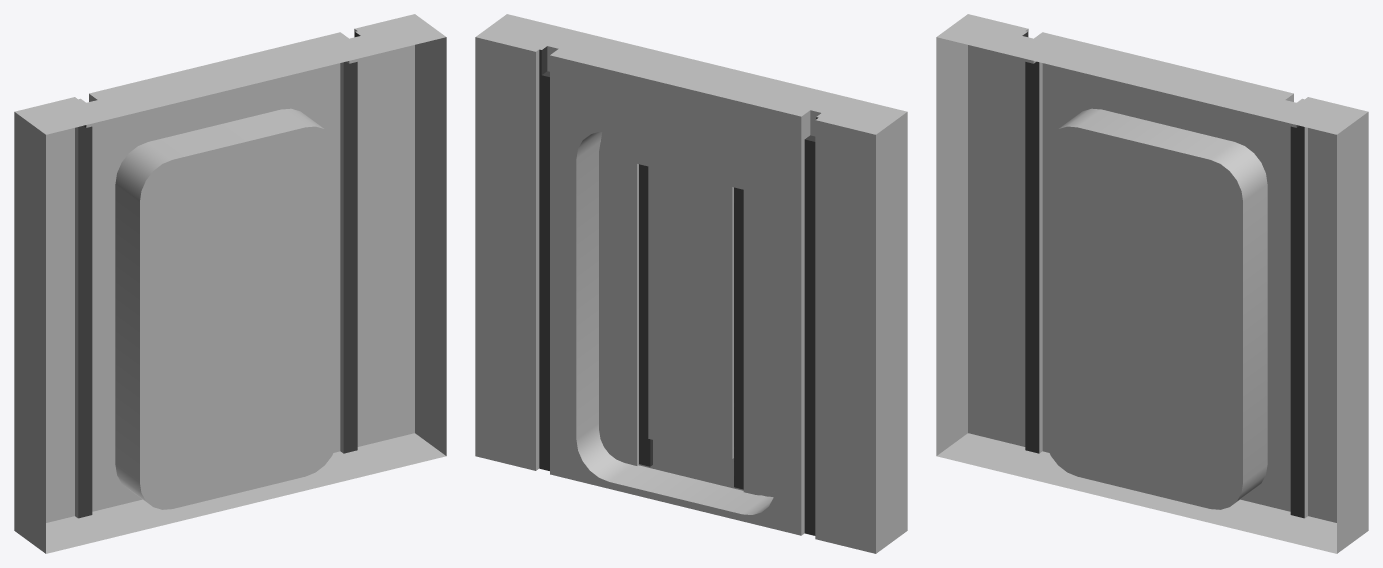
The model's file is door_a.glb.
3 views of the same model, side by side, from view 1: azimuth 30°, elevation 25°; view 2: azimuth 150°, elevation 25°; view 3: azimuth 330°, elevation 25° (orthographic).
Parts seen in each view (by area): view 1: Door_A; view 2: Door_A; view 3: Door_A.
Part boxes in pixels (x1=…): Door_A: x1=14, y1=14, x2=446, y2=553; Door_A: x1=475, y1=14, x2=907, y2=553; Door_A: x1=936, y1=14, x2=1368, y2=553.
Size of the model in its own units: 3 by 3 by 0.41.
1 material, 1 textured.
